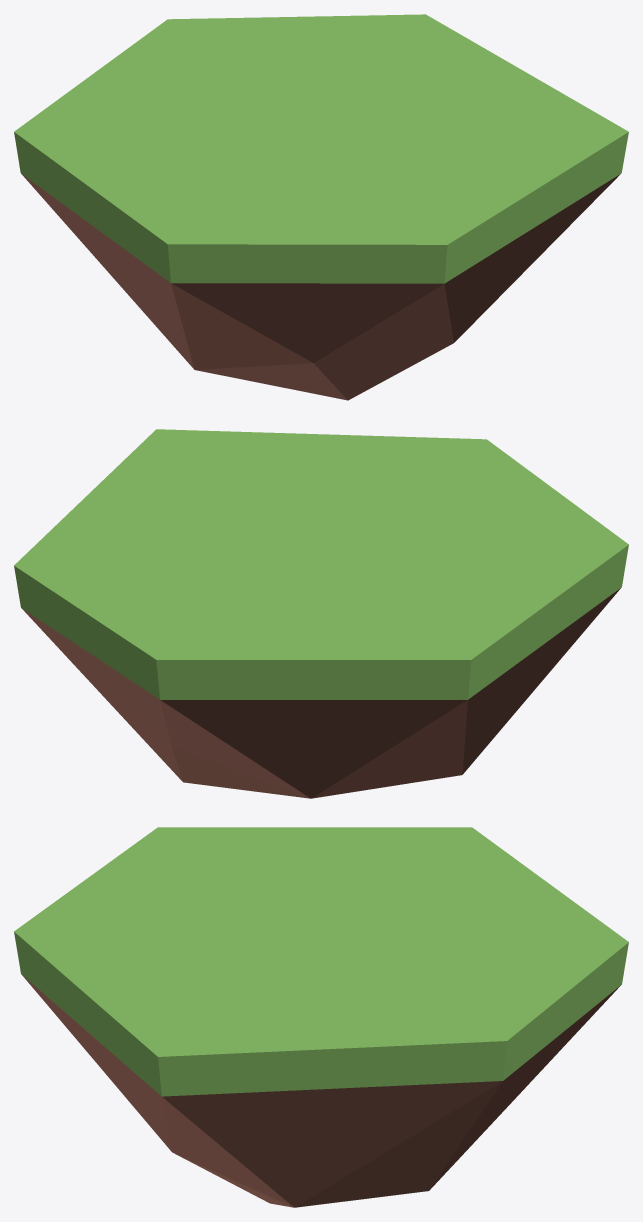
The model's file is SmallIsland3.fbx.
The picture shows the model from 3 angles, top to bottom: view 1: azimuth 30°, elevation 25°; view 2: azimuth 150°, elevation 25°; view 3: azimuth 270°, elevation 25°; orthographic projection. The views are drawn at different scales.
Parts seen in each view (by area): view 1: SmallIsland3; view 2: SmallIsland3; view 3: SmallIsland3.
Part boxes in pixels (box(x1,y1,x2,y2)): SmallIsland3: box(14, 14, 628, 400); SmallIsland3: box(14, 429, 628, 798); SmallIsland3: box(14, 827, 628, 1207).
Size of the model in its own units: 0.7287 by 0.3831 by 0.8241.
